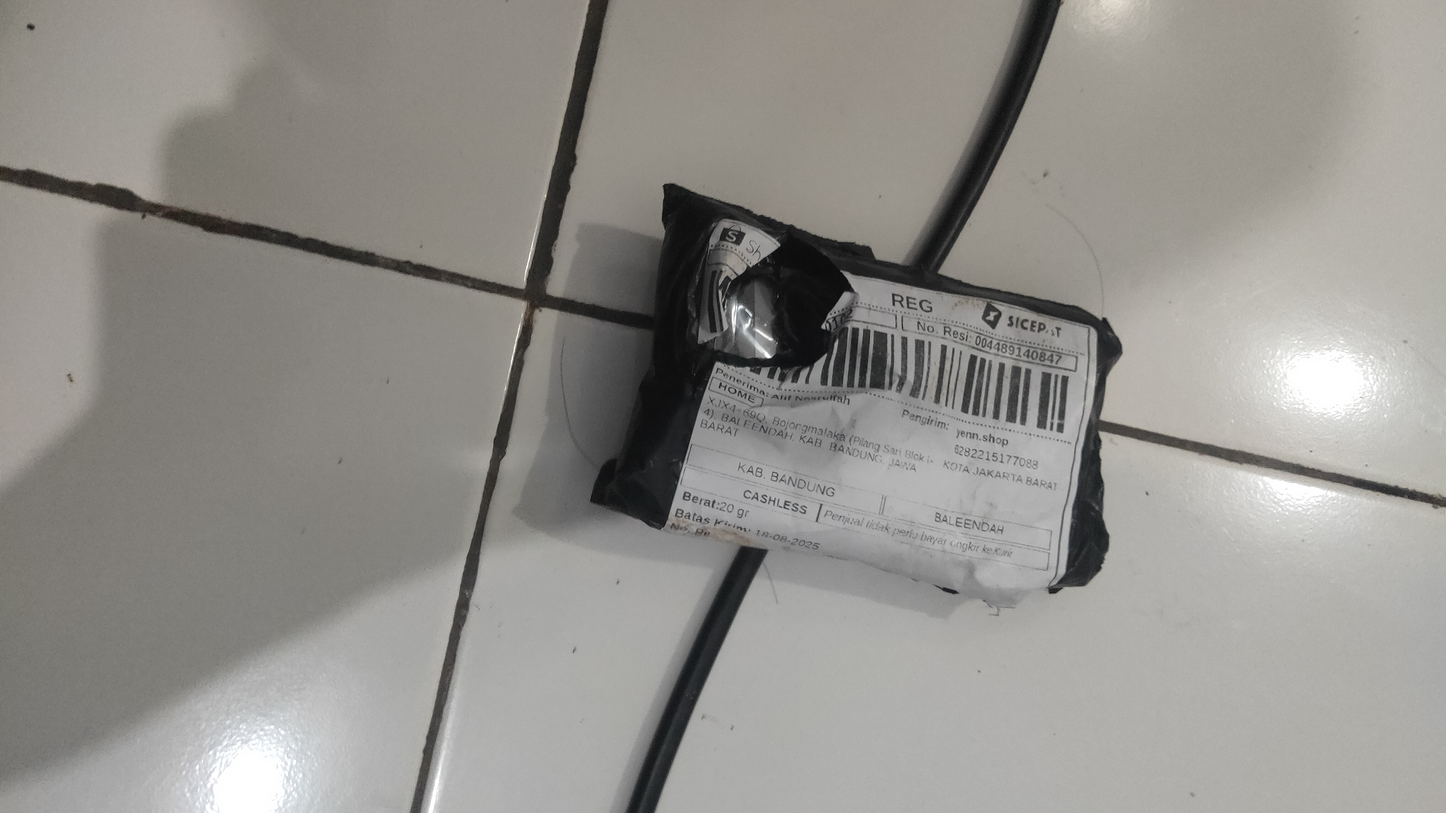damaged package: (684, 233, 874, 380)
undamaged: (594, 187, 1124, 610)
